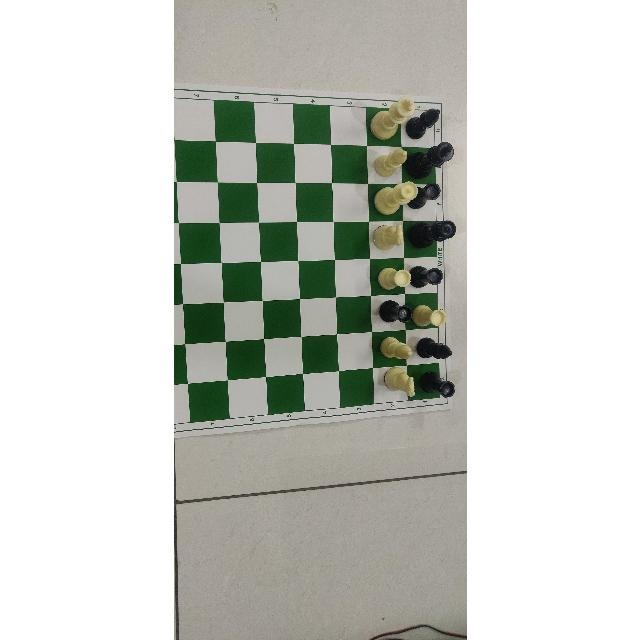black-bishop: (402, 106, 442, 138), (413, 339, 455, 359)
black-king: (406, 142, 454, 178)
black-queen: (407, 221, 457, 249)
black-rook: (405, 181, 441, 211), (418, 369, 453, 399), (376, 301, 411, 325), (403, 268, 442, 288)
white-bishop: (372, 144, 408, 177), (374, 336, 416, 363)
white-king: (367, 92, 412, 142)
white-knight: (374, 368, 414, 403), (369, 217, 404, 250)
white-queen: (369, 179, 418, 215)
white-rook: (374, 266, 410, 290), (415, 303, 450, 327)
